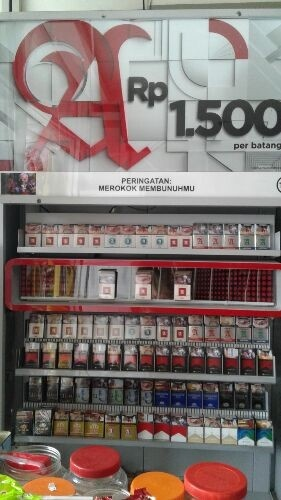A Mild 12: (173, 328, 186, 342), (157, 327, 170, 340)
A Mild 16: (77, 323, 92, 340), (99, 284, 115, 299), (135, 284, 150, 300), (175, 285, 190, 301), (28, 323, 43, 339), (62, 323, 76, 340), (46, 324, 61, 339), (93, 325, 108, 340), (109, 325, 124, 340), (24, 234, 40, 247), (41, 234, 57, 247), (57, 234, 73, 247), (73, 234, 88, 247), (89, 234, 104, 247), (167, 236, 180, 249), (180, 236, 192, 249)
A Mild Menthol 16: (135, 234, 152, 249), (104, 234, 120, 248), (140, 326, 156, 340), (120, 234, 135, 248), (125, 326, 139, 340), (152, 235, 166, 248)
Avolution Menthol 20: (252, 328, 268, 344), (237, 328, 251, 345), (240, 235, 255, 249), (255, 235, 270, 249)
Avolution Red 20: (220, 326, 236, 344), (204, 326, 220, 343), (188, 326, 203, 343), (223, 234, 239, 249), (193, 235, 208, 249), (209, 235, 223, 248)
Dji Jam Soe Super Premium 12: (15, 421, 33, 436), (34, 421, 52, 435)
Dji Sam Soe 16: (85, 422, 104, 438), (53, 421, 69, 436), (68, 422, 84, 436)
Magnum Filter 12: (250, 394, 267, 411), (220, 392, 234, 410), (236, 393, 250, 410)
Magnum Mild 20: (203, 392, 219, 409), (187, 392, 203, 408), (153, 391, 170, 406), (170, 392, 187, 407)
Marlboro Black 20: (171, 356, 188, 373), (188, 356, 205, 373), (256, 359, 273, 376), (73, 352, 89, 369), (90, 353, 106, 370), (240, 359, 256, 375), (57, 352, 72, 369), (207, 357, 222, 374), (41, 352, 56, 368), (155, 356, 170, 372), (224, 358, 239, 374), (140, 354, 154, 371), (106, 355, 121, 370), (25, 352, 39, 368), (123, 355, 137, 371)
Marlboro Ice Burst 20: (238, 428, 254, 445), (256, 430, 272, 446)
Marlboro Light 20: (220, 427, 237, 444), (187, 427, 203, 444), (203, 427, 220, 443)
Marlboro Red 20: (171, 425, 188, 442), (137, 423, 153, 440), (154, 423, 170, 440)
Sampoerna Hijau 12: (103, 423, 121, 439), (120, 425, 137, 440)
U Mild 16: (90, 387, 106, 403), (124, 390, 138, 404), (139, 391, 153, 405), (76, 388, 89, 402)
U Mild Bold 16: (44, 385, 59, 401), (29, 385, 43, 401), (60, 387, 75, 401)
U Mild Cool 16: (109, 389, 122, 404)
display-amild: (1, 20, 281, 198)
